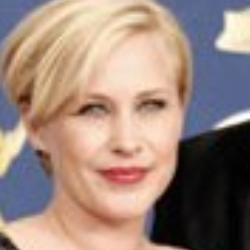face: (6, 1, 203, 230)
